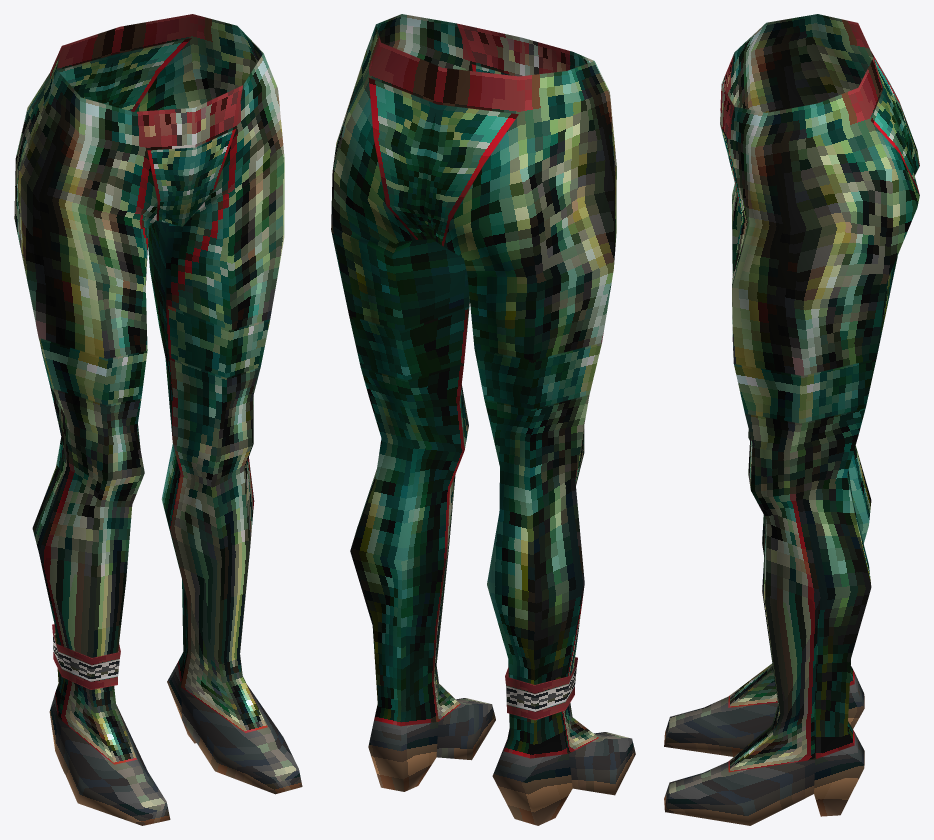
Rendered from f_reg253.glb.
3 renders of one model, left to right at view 1: azimuth 30°, elevation 25°; view 2: azimuth 150°, elevation 25°; view 3: azimuth 270°, elevation 25°, orthographic. The views are drawn at different scales.
Size of the model in its own units: 41.81 by 111 by 35.5.
Materials: 1 (1 with a texture image).
